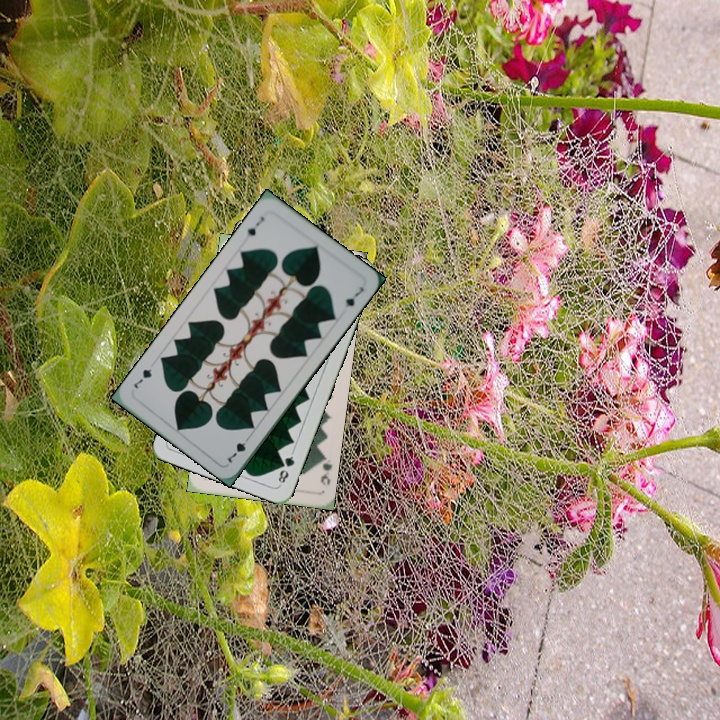G7: (222, 431, 252, 466), (243, 212, 267, 239)
G8: (274, 449, 297, 488)
G9: (315, 451, 335, 488)
